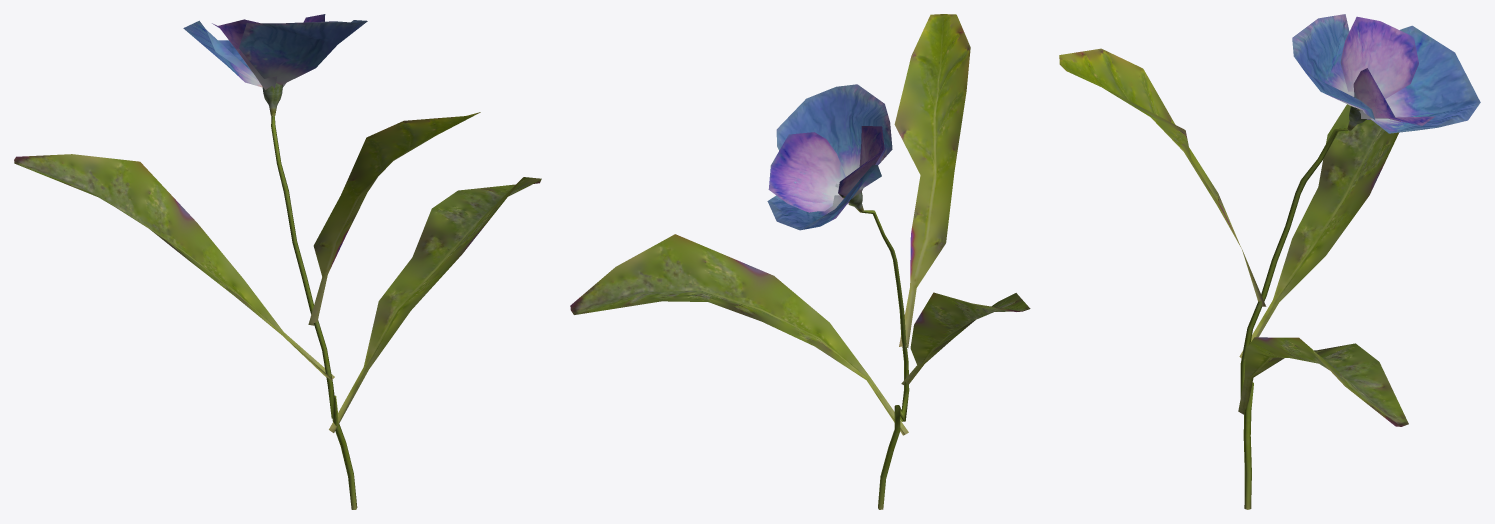
File: Poppy_baby_short_lightblue.glb
The picture shows the model from 3 angles, left to right: view 1: azimuth 30°, elevation 25°; view 2: azimuth 150°, elevation 25°; view 3: azimuth 270°, elevation 25°; orthographic projection. The views are drawn at different scales.
Parts seen in each view (by area): view 1: baby poppy; view 2: baby poppy; view 3: baby poppy.
Boxes of the visible parts, <box> form: baby poppy: <box>14,14,541,509</box>; baby poppy: <box>570,14,1030,509</box>; baby poppy: <box>1059,14,1480,509</box>.
Bounding box in the file's own units: 1.32 × 1.17 × 0.9442.
Materials: 1 (1 with a texture image).
